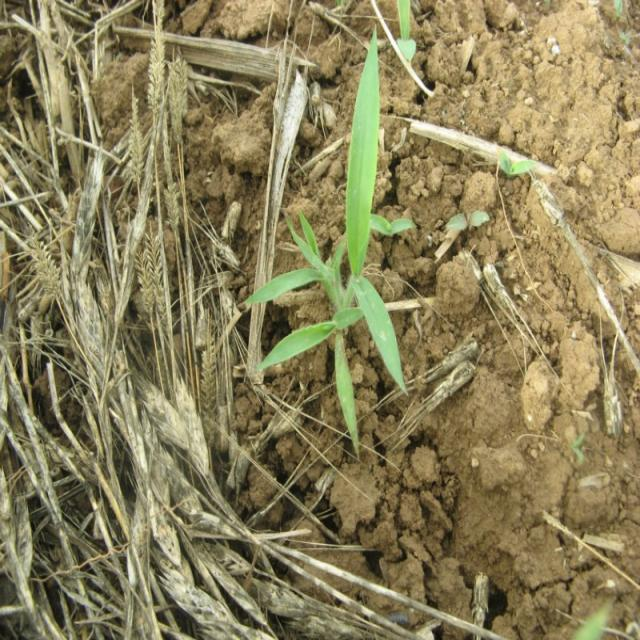bg: (249, 31, 407, 450)
